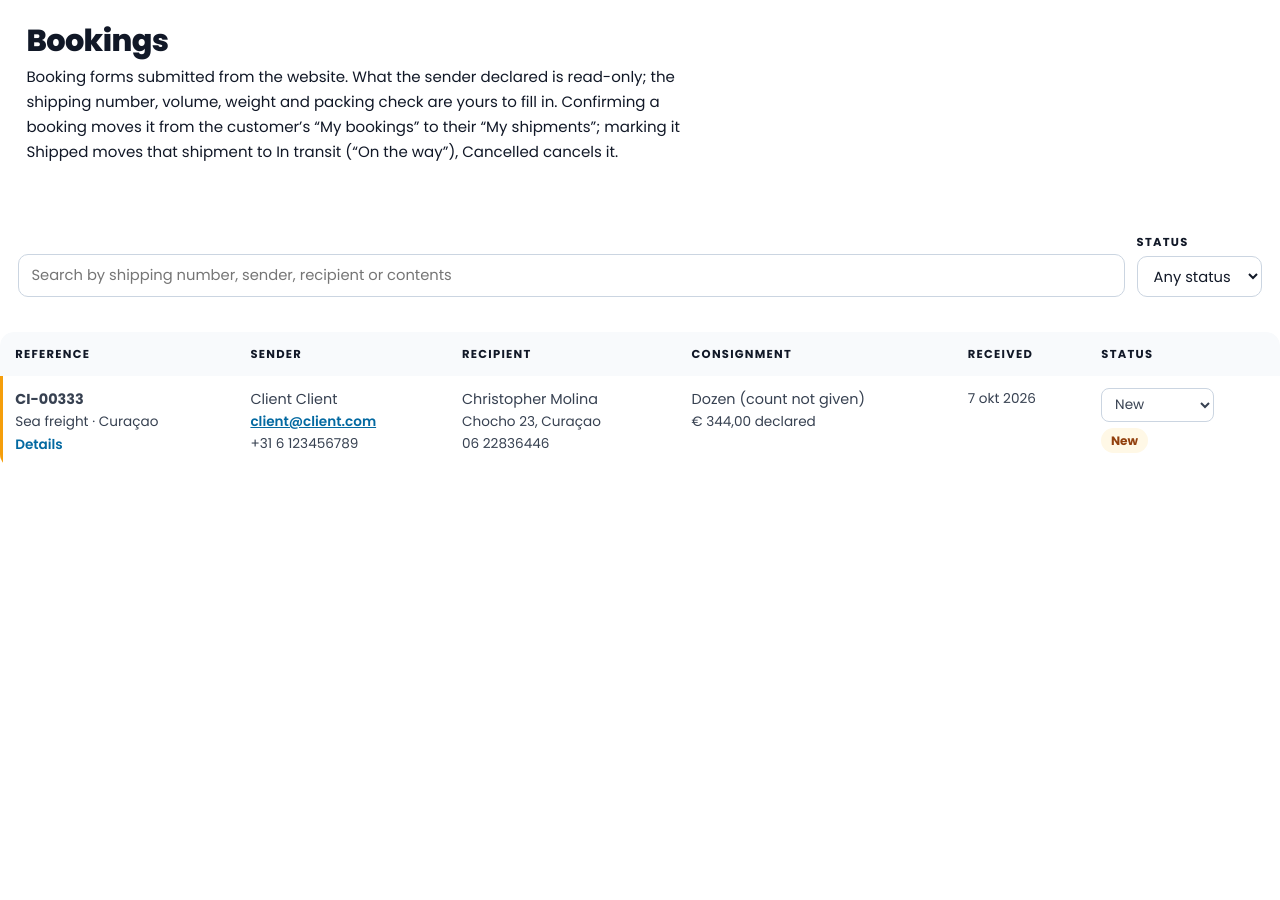
Bookings › opens it by clicking anywhere on the row too
This screenshot has width=1280, height=900.
Click the text "Christopher Molina": x=530, y=399 [462,389,598,409]
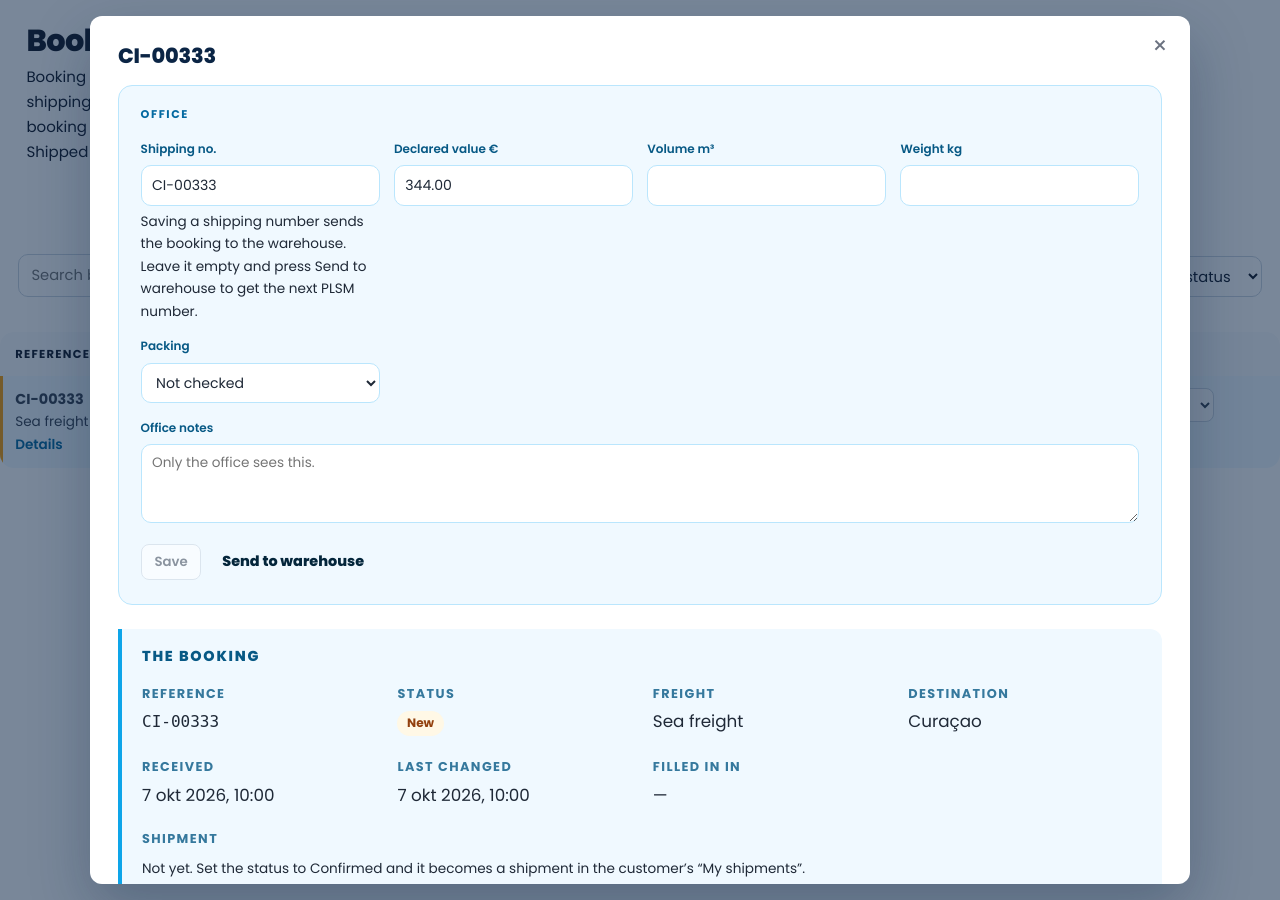
Now the dialog "CI-00333" is shown
